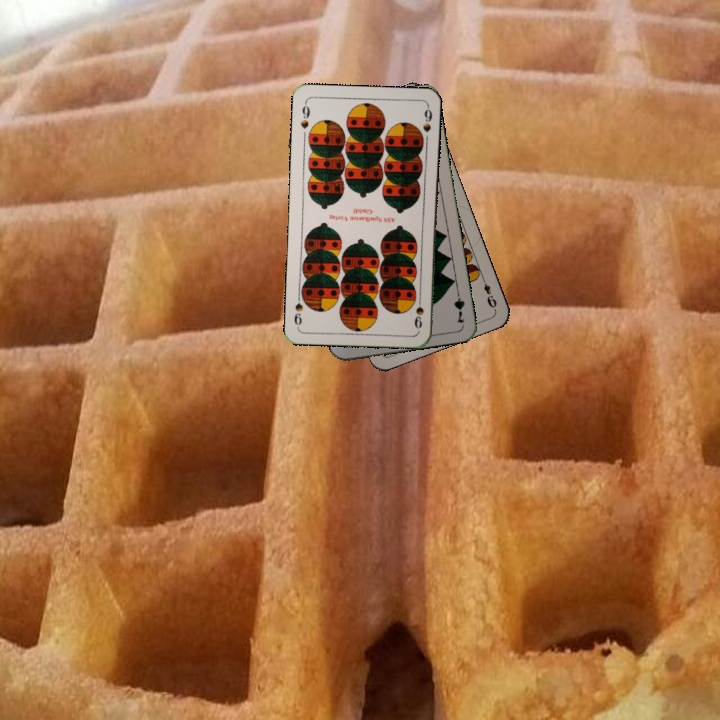E9: (478, 273, 499, 312)
G7: (450, 285, 467, 326)
S9: (411, 291, 426, 331), (297, 99, 312, 131)
